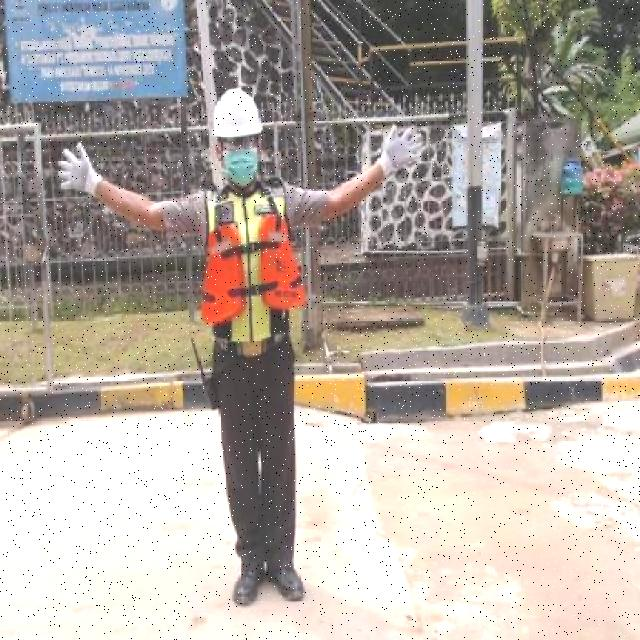Boots: (266, 554, 308, 604), (230, 556, 264, 609)
Gloves: (53, 140, 104, 203), (374, 120, 424, 178)
Helmet: (210, 88, 262, 137)
Mask: (196, 185, 309, 358)
